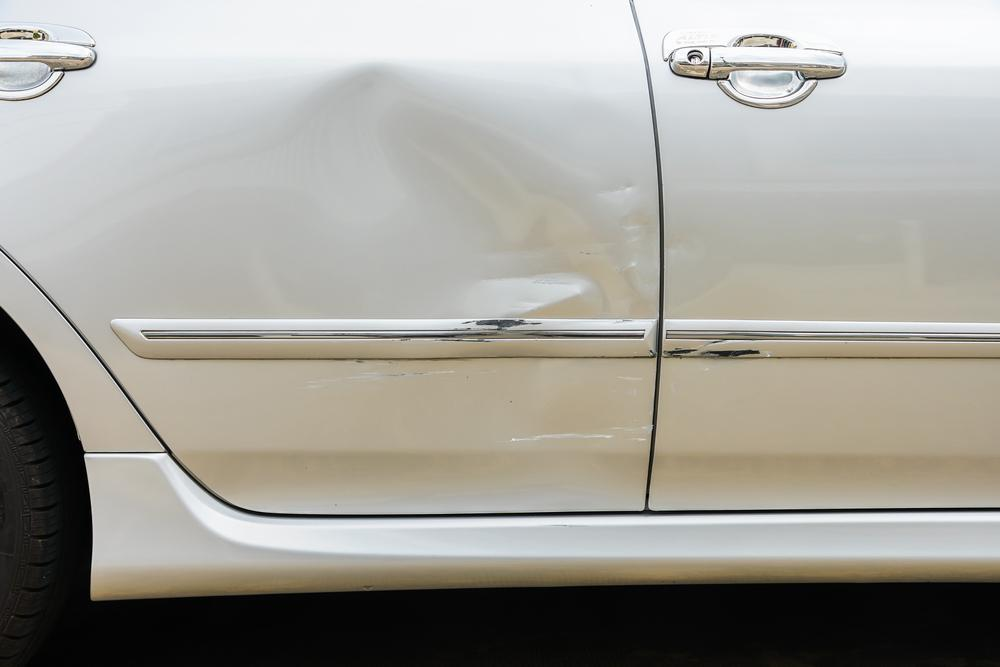dent: (250, 66, 632, 321)
scratch: (285, 315, 546, 390), (500, 420, 651, 447), (670, 333, 776, 363)
